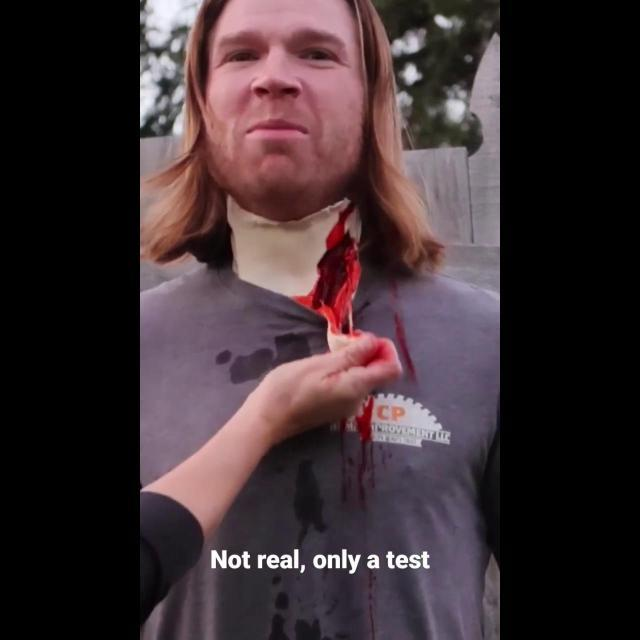blood: (292, 204, 360, 336), (338, 397, 376, 512), (394, 312, 416, 384), (366, 558, 379, 640)
